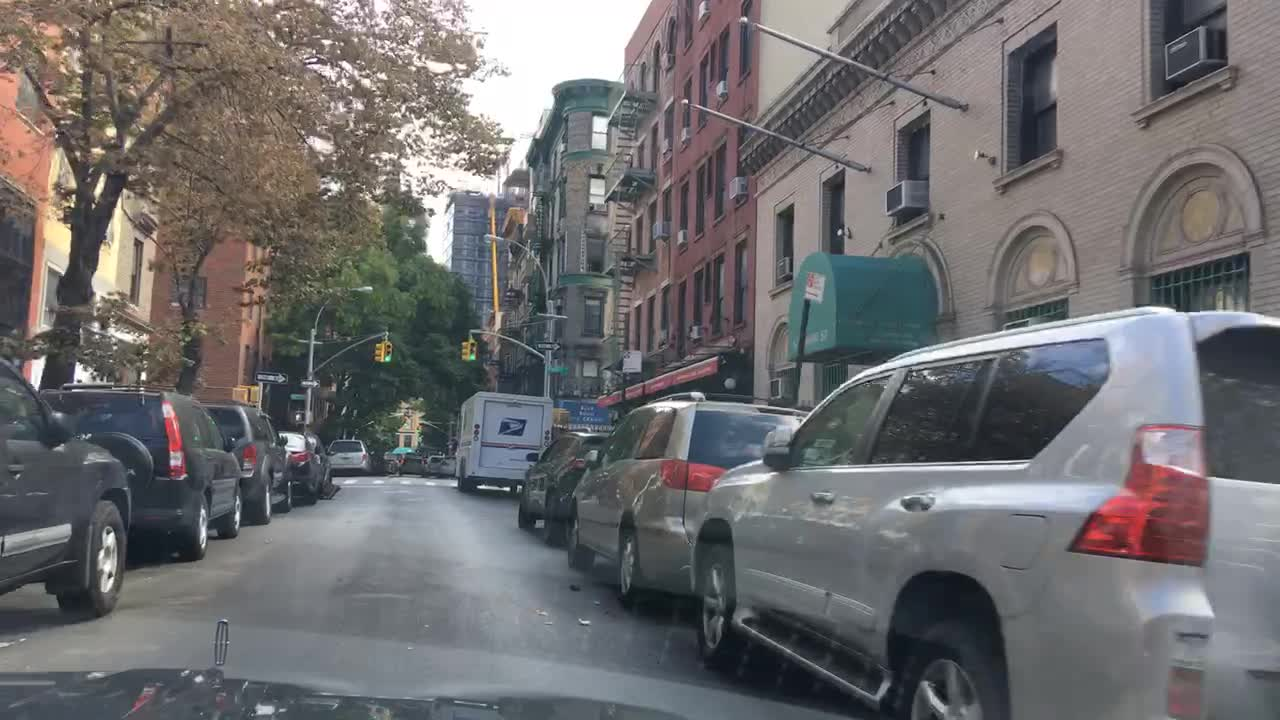car: (688, 303, 1278, 717), (563, 387, 807, 605), (42, 384, 245, 562), (0, 359, 139, 614), (518, 428, 627, 544), (205, 405, 294, 530), (277, 433, 326, 508), (323, 436, 368, 479), (395, 453, 426, 473), (364, 451, 387, 474), (427, 451, 447, 471), (444, 455, 458, 470)
traffic light: (380, 338, 392, 362), (288, 408, 306, 424), (245, 387, 262, 402), (229, 389, 248, 402), (374, 338, 383, 362), (467, 341, 477, 362), (460, 341, 469, 362)
traffic sign: (257, 369, 288, 389), (622, 349, 644, 373), (536, 341, 561, 352), (546, 362, 569, 373), (298, 378, 315, 389), (291, 395, 309, 399)
truck: (450, 392, 553, 493)
